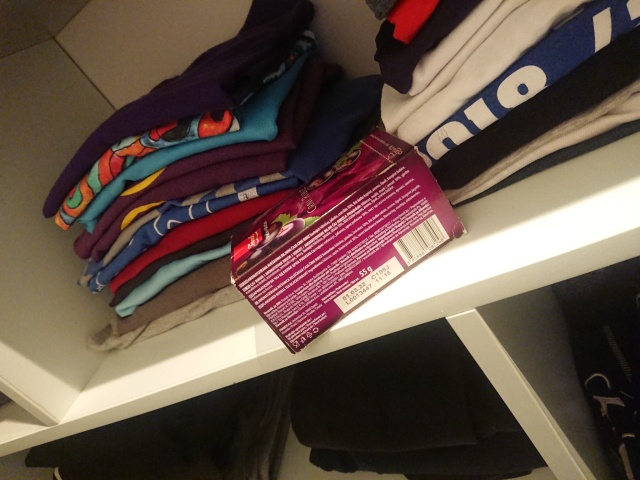Franck Black Currant Tea 60g: (226, 123, 470, 356)
